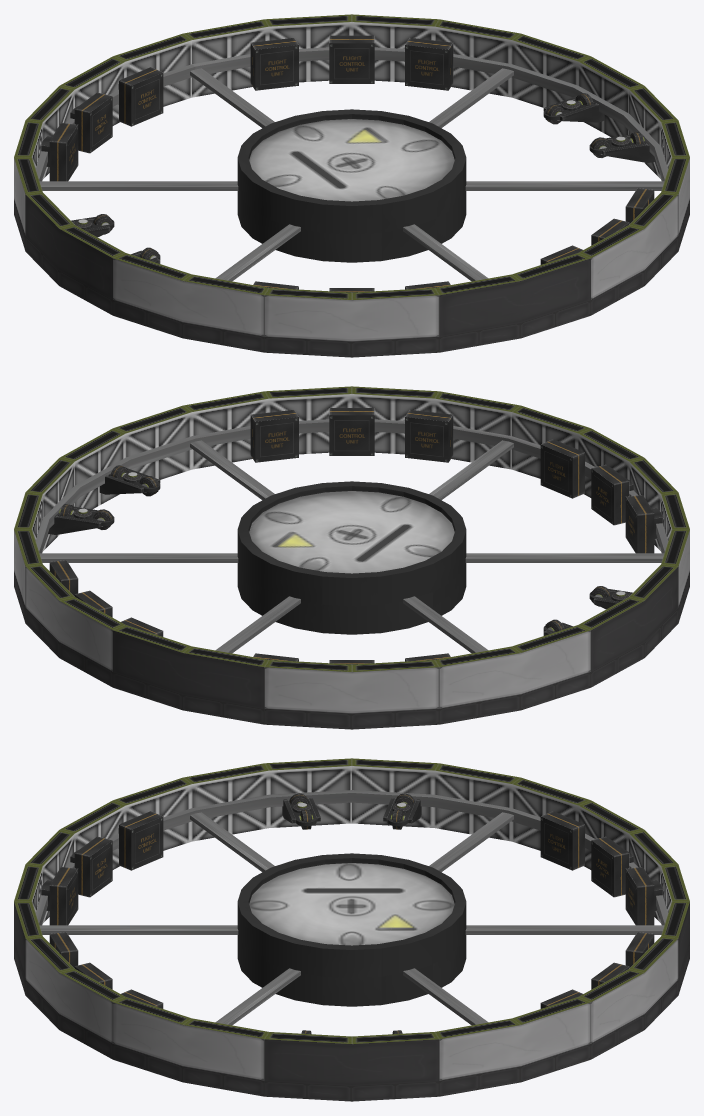
Rendered from LargeInstrumentUnit.FBX.
3 renders of one model, top to bottom at view 1: azimuth 30°, elevation 25°; view 2: azimuth 150°, elevation 25°; view 3: azimuth 270°, elevation 25°, orthographic.
Parts seen in each view (by area): view 1: MainBody, Cylinder047, Cylinder048, Tube003, Box109, Box108, Box110, AvionicsBox021, AvionicsBox023, AvionicsBox019, AvionicsBox027, AvionicsBox017 (+4 smaller); view 2: MainBody, Cylinder047, Cylinder048, Tube003, Box110, Box108, Box109, AvionicsBox015, AvionicsBox013, AvionicsBox005, AvionicsBox009, AvionicsBox007 (+4 smaller); view 3: MainBody, Cylinder047, Cylinder048, Tube003, Box108, Box109, Box110, AvionicsBox011, AvionicsBox025, AvionicsBox007, AvionicsBox017, AvionicsBox009 (+3 smaller).
Part boxes in pixels (left/top/right/bottom): MainBody: left=14, top=14, right=689, bottom=357; Cylinder047: left=237, top=109, right=466, bottom=234; Cylinder048: left=237, top=189, right=466, bottom=262; Tube003: left=36, top=47, right=667, bottom=181; Box109: left=39, top=181, right=664, bottom=190; Box108: left=190, top=68, right=488, bottom=281; Box110: left=215, top=68, right=513, bottom=281; AvionicsBox021: left=250, top=38, right=298, bottom=90; AvionicsBox023: left=405, top=38, right=453, bottom=90; AvionicsBox019: left=329, top=35, right=374, bottom=83; AvionicsBox027: left=119, top=67, right=163, bottom=126; AvionicsBox017: left=74, top=92, right=112, bottom=153; MainBody: left=14, top=386, right=689, bottom=729; Cylinder047: left=237, top=481, right=466, bottom=606; Cylinder048: left=237, top=561, right=466, bottom=634; Tube003: left=36, top=419, right=667, bottom=553; Box110: left=39, top=553, right=664, bottom=562; Box108: left=215, top=440, right=513, bottom=653; Box109: left=190, top=440, right=488, bottom=653; AvionicsBox015: left=405, top=410, right=453, bottom=462; AvionicsBox013: left=250, top=410, right=298, bottom=462; AvionicsBox005: left=329, top=408, right=374, bottom=455; AvionicsBox009: left=540, top=439, right=584, bottom=498; AvionicsBox007: left=591, top=464, right=629, bottom=525; MainBody: left=14, top=758, right=689, bottom=1101; Cylinder047: left=237, top=853, right=466, bottom=978; Cylinder048: left=237, top=933, right=466, bottom=1006; Tube003: left=36, top=790, right=667, bottom=925; Box108: left=39, top=925, right=664, bottom=934; Box109: left=215, top=812, right=513, bottom=1025; Box110: left=190, top=812, right=488, bottom=1025; AvionicsBox011: left=119, top=811, right=163, bottom=870; AvionicsBox025: left=540, top=811, right=584, bottom=870; AvionicsBox007: left=74, top=836, right=112, bottom=897; AvionicsBox017: left=591, top=836, right=629, bottom=897; AvionicsBox009: left=49, top=867, right=78, bottom=925.
Size of what is drawn, in the model's own units: 3.75 by 0.3517 by 3.75.
